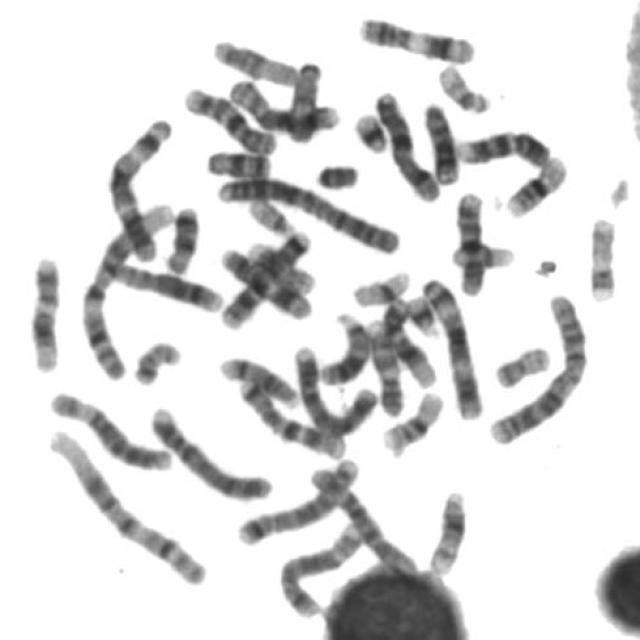A1: (39, 421, 212, 590), (74, 193, 178, 382)
A2: (482, 286, 592, 447), (211, 170, 405, 255)
A3: (100, 111, 177, 263), (416, 270, 484, 421)
B4: (143, 399, 274, 504), (287, 337, 383, 439)
B5: (231, 451, 362, 547), (273, 516, 367, 621)
C10: (178, 80, 280, 156), (448, 185, 488, 297)
C11: (221, 235, 313, 325), (352, 10, 479, 66)
C12: (376, 297, 439, 389), (22, 248, 64, 374)
C6: (302, 456, 418, 578), (43, 383, 175, 474)
C7: (215, 225, 314, 331), (233, 372, 350, 460)
C8: (224, 73, 342, 138), (103, 253, 226, 314)
C9: (449, 122, 554, 170), (364, 313, 409, 419)
D13: (314, 307, 372, 386), (417, 95, 461, 186)
D14: (213, 350, 302, 410), (422, 484, 469, 576)
D15: (206, 32, 302, 88), (281, 54, 324, 146)
E16: (500, 149, 572, 220), (376, 384, 447, 456)
E17: (248, 243, 319, 297), (582, 211, 620, 305)
E18: (158, 200, 202, 275), (200, 144, 273, 180)
F19: (345, 262, 413, 308), (444, 236, 517, 272)
F20: (488, 338, 552, 390), (127, 333, 184, 388)
G21: (348, 106, 390, 156), (401, 287, 441, 339)
G22: (432, 58, 495, 115), (242, 192, 298, 238)
X: (370, 84, 442, 204)
Y: (311, 157, 362, 190)
